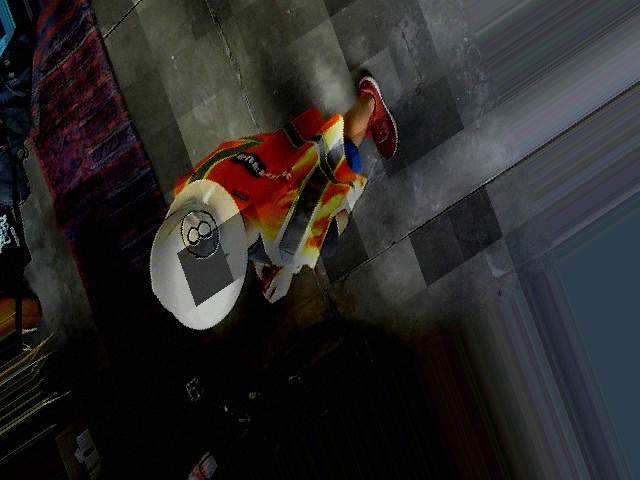eight: (173, 197, 224, 267)
